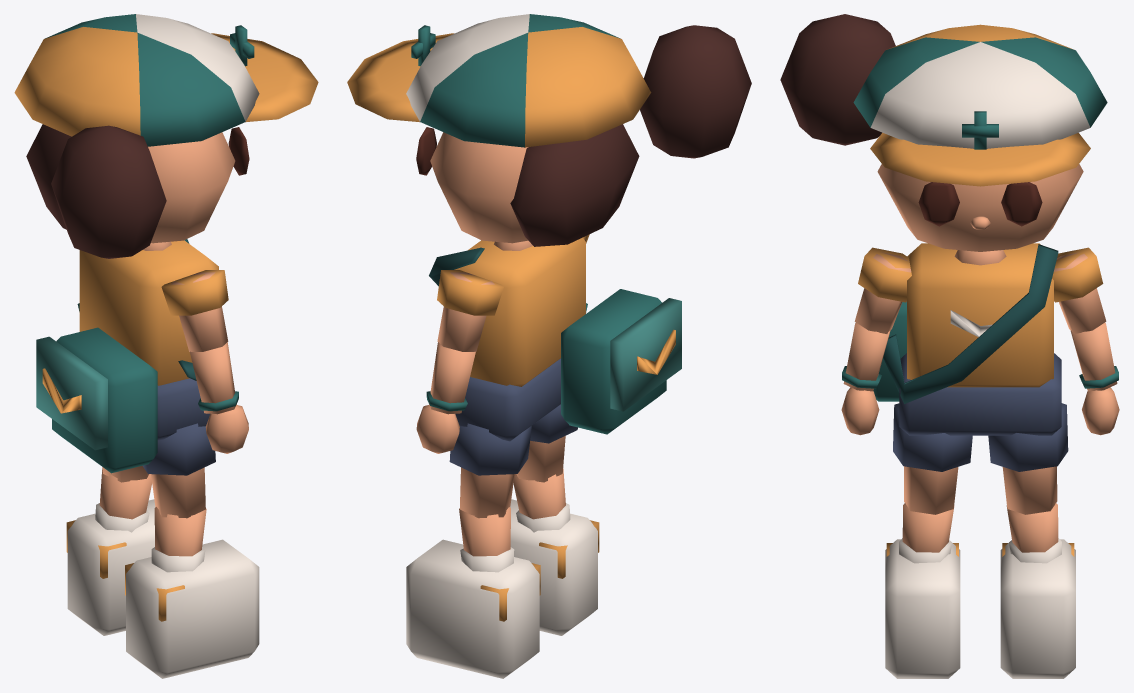
File: char.courier-female.lod2.glb
3 views of the same model, side by side, from view 1: azimuth 30°, elevation 25°; view 2: azimuth 150°, elevation 25°; view 3: azimuth 270°, elevation 25° (orthographic).
Parts seen in each view (by area): view 1: head, footR, torso, backpackSocket_geometry, footL, backpackSocket, legR, armR, shinR, shinL, foreArmR, hip (+1 smaller); view 2: head, footL, torso, backpackSocket_geometry, footR, backpackSocket, legL, hip, armL, shinL, shinR, legR (+2 smaller); view 3: head, torso, footL, footR, hip, legL, legR, armR, armL, shinL, shinR, foreArmL (+4 smaller).
Boxes of the visible parts, left/top/right/bottom form: head: left=14, top=14, right=318, bottom=258; footR: left=125, top=539, right=259, bottom=678; torso: left=79, top=239, right=218, bottom=385; backpackSocket_geometry: left=52, top=327, right=157, bottom=473; footL: left=66, top=499, right=155, bottom=635; backpackSocket: left=36, top=336, right=107, bottom=450; legR: left=142, top=423, right=215, bottom=518; armR: left=161, top=270, right=228, bottom=351; shinR: left=151, top=507, right=206, bottom=572; shinL: left=95, top=468, right=152, bottom=532; foreArmR: left=190, top=342, right=238, bottom=414; hip: left=157, top=378, right=209, bottom=440; head: left=347, top=14, right=751, bottom=250; footL: left=406, top=539, right=540, bottom=678; torso: left=429, top=237, right=585, bottom=386; backpackSocket_geometry: left=561, top=289, right=666, bottom=434; footR: left=510, top=499, right=599, bottom=635; backpackSocket: left=610, top=298, right=681, bottom=411; legL: left=449, top=423, right=531, bottom=518; hip: left=455, top=358, right=560, bottom=441; armL: left=437, top=270, right=503, bottom=351; shinL: left=459, top=507, right=514, bottom=572; shinR: left=513, top=468, right=570, bottom=532; legR: left=516, top=404, right=577, bottom=482; head: left=780, top=14, right=1107, bottom=265; torso: left=883, top=243, right=1058, bottom=403; footL: left=1000, top=539, right=1075, bottom=678; footR: left=885, top=539, right=960, bottom=678; hip: left=899, top=353, right=1061, bottom=435; legL: left=988, top=403, right=1068, bottom=514; legR: left=893, top=403, right=972, bottom=514; armR: left=854, top=247, right=911, bottom=333; armL: left=1052, top=247, right=1106, bottom=333; shinL: left=1006, top=503, right=1061, bottom=563; shinR: left=899, top=503, right=954, bottom=563; foreArmL: left=1070, top=322, right=1118, bottom=391.
Size of the model in its own units: 0.7649 by 1.44 by 0.7343.
